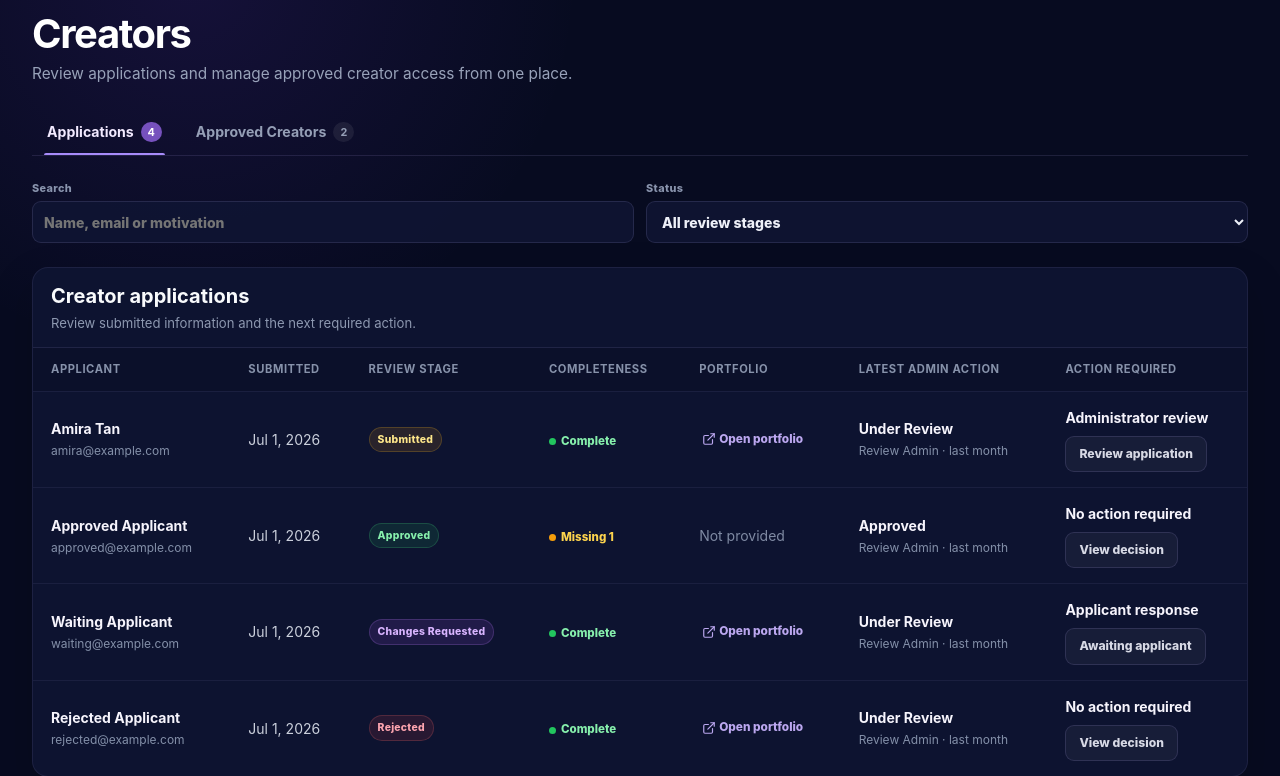
Test case: Admin Creators workflow › keeps a failed decision recoverable and does not report success
Click the button with aria-label "Open application for Amira Tan".
click(132, 439)  # box [51,418,212,460]
(page scrolled)
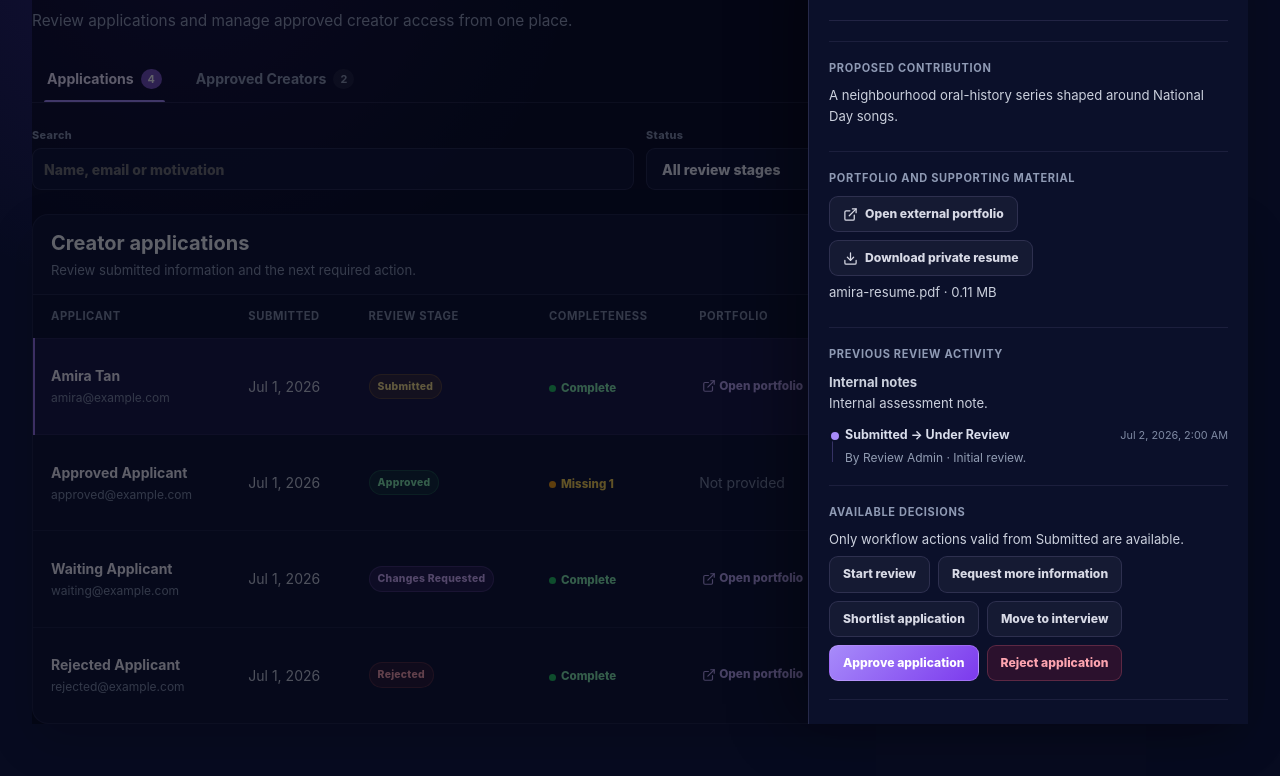
Click the button "Approve application".
click(904, 663)  # box [829,645,979,681]
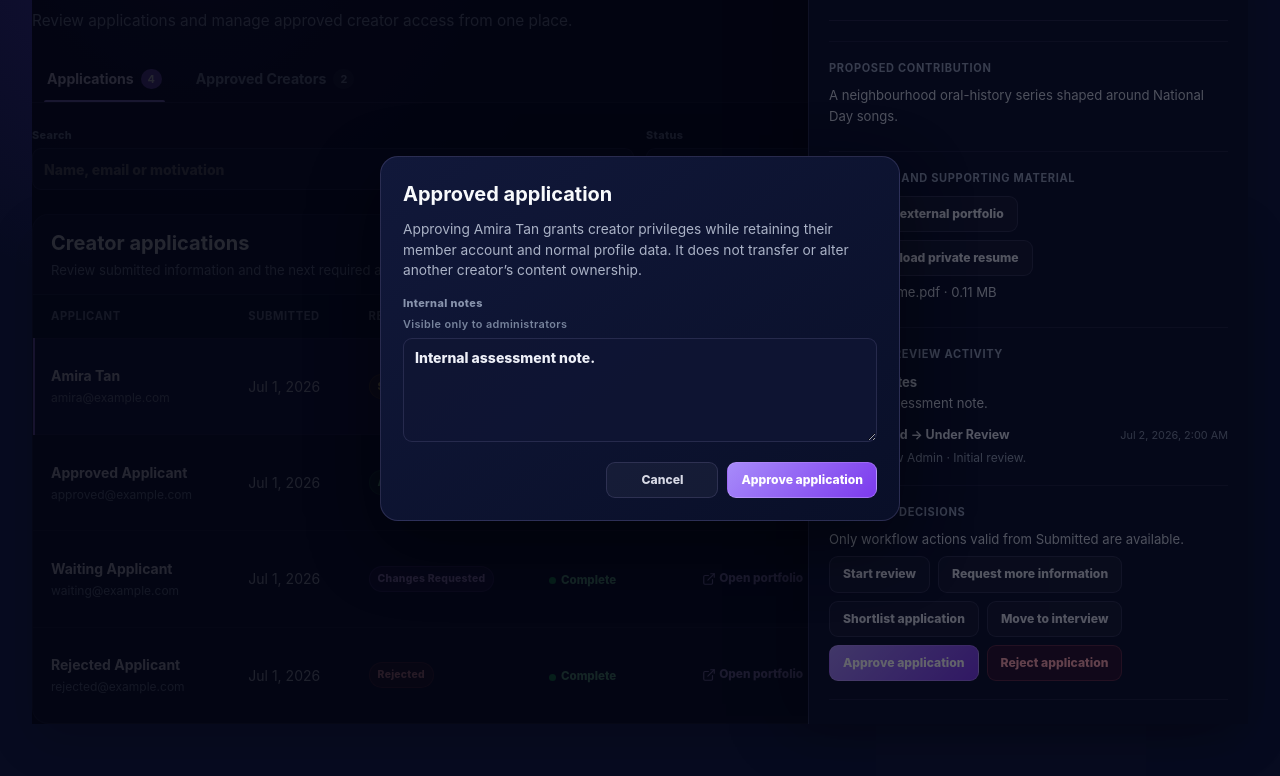
Click the button "Approve application".
click(802, 480)  # box [727,462,877,498]
(page scrolled)
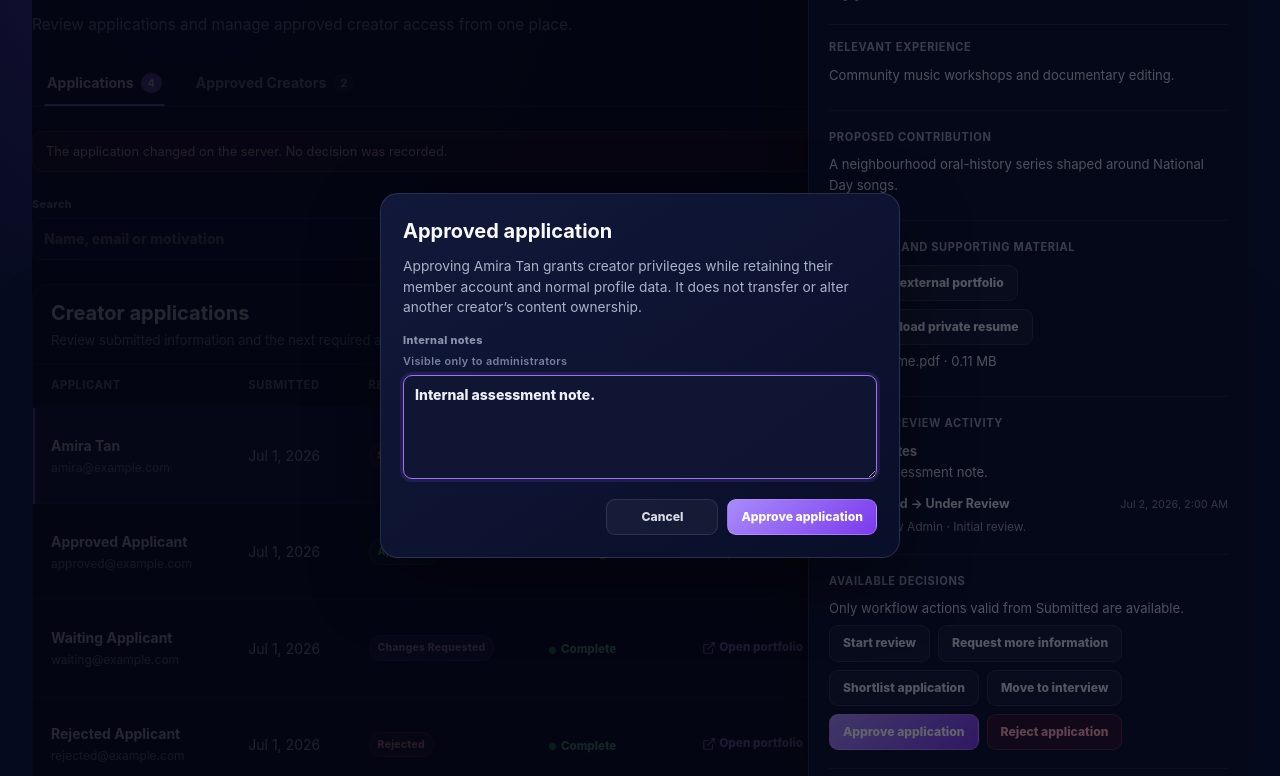
Result: the dialog "Approved application" is shown at [380,193,900,557]
Result: the message shows "No decision was recorded" at [46,144,447,159]
